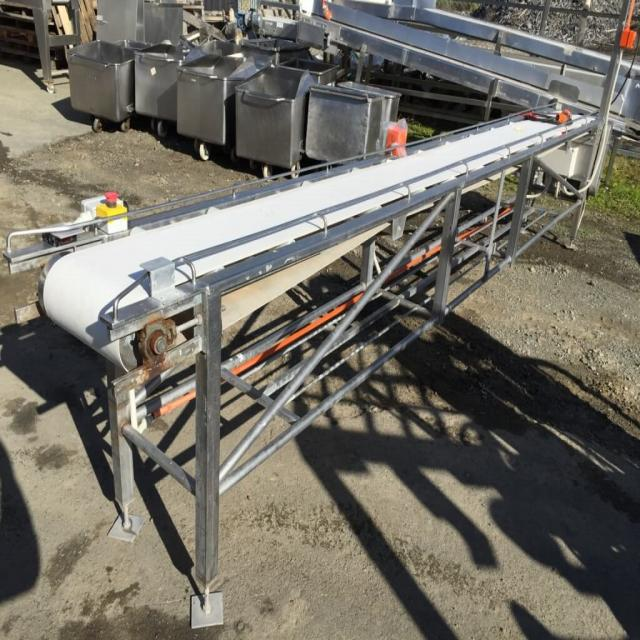Convoyeur: (25, 99, 604, 372)
